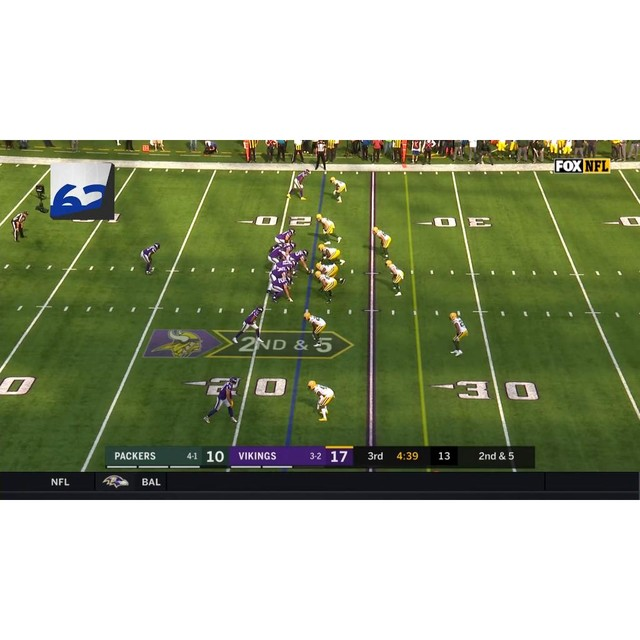american-football-player: (203, 376, 240, 424), (233, 304, 265, 344), (308, 381, 334, 422), (449, 311, 469, 356), (303, 310, 326, 348), (384, 257, 405, 297), (316, 213, 342, 244), (287, 168, 311, 201), (312, 270, 335, 303), (269, 274, 294, 303), (372, 225, 392, 257), (319, 243, 345, 267), (141, 243, 161, 274), (289, 248, 311, 275), (315, 262, 343, 283), (267, 242, 288, 264), (330, 176, 346, 204), (275, 228, 295, 247)
referee: (11, 211, 28, 242), (315, 141, 328, 170)
